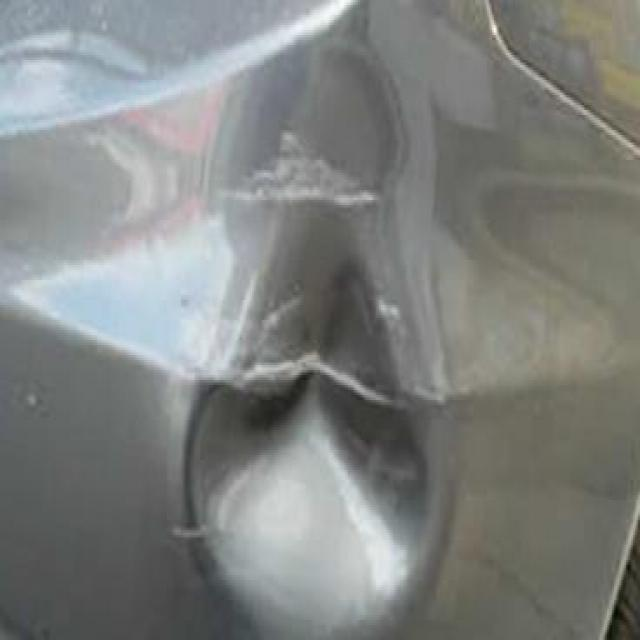dent: (162, 40, 470, 640)
